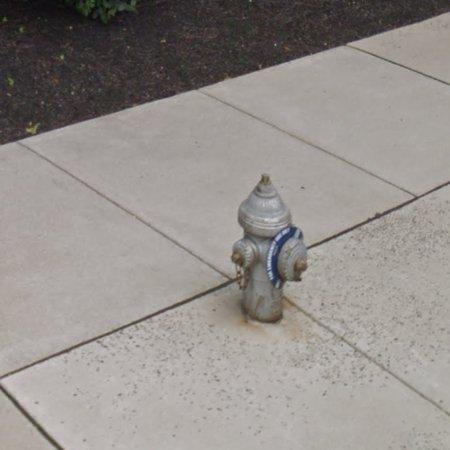a fire hydrant: (232, 174, 308, 323)
